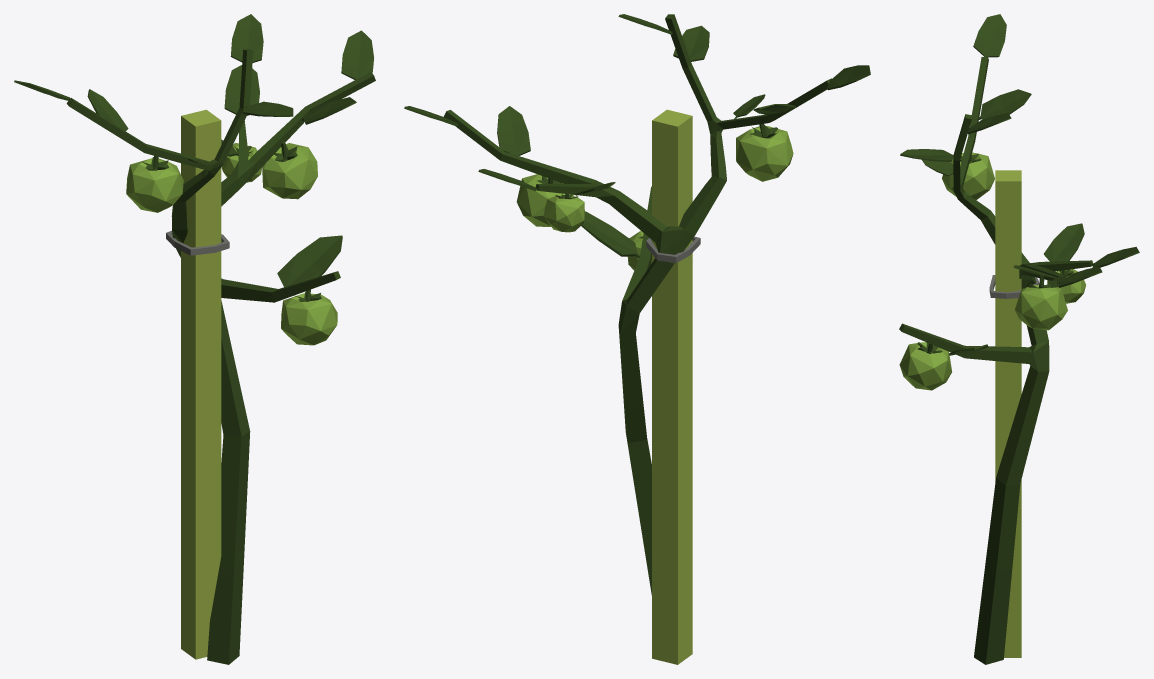
File: TomatoPlant_02.fbx
3 renders of one model, left to right at view 1: azimuth 30°, elevation 25°; view 2: azimuth 150°, elevation 25°; view 3: azimuth 270°, elevation 25°, orthographic. The views are drawn at different scales.
Visible parts, largest first — view 1: TomatoPlant_02; view 2: TomatoPlant_02; view 3: TomatoPlant_02.
Boxes of the visible parts, x1,y1,x2,y2 form: TomatoPlant_02: (14, 14, 375, 664); TomatoPlant_02: (404, 14, 870, 664); TomatoPlant_02: (899, 14, 1139, 664).
Bounding box in the file's own units: 0.7562 × 1.11 × 0.4329.
